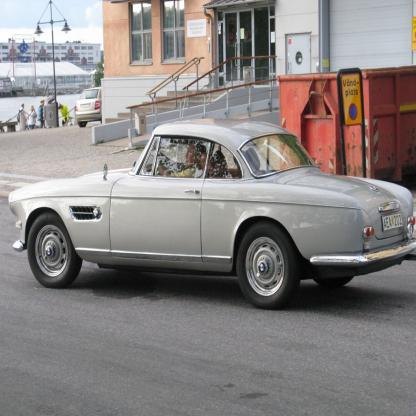Car: (1, 123, 416, 301), (74, 86, 106, 127)
